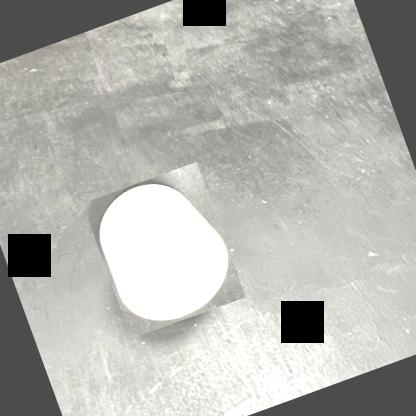white cylinder: (82, 160, 246, 338)
